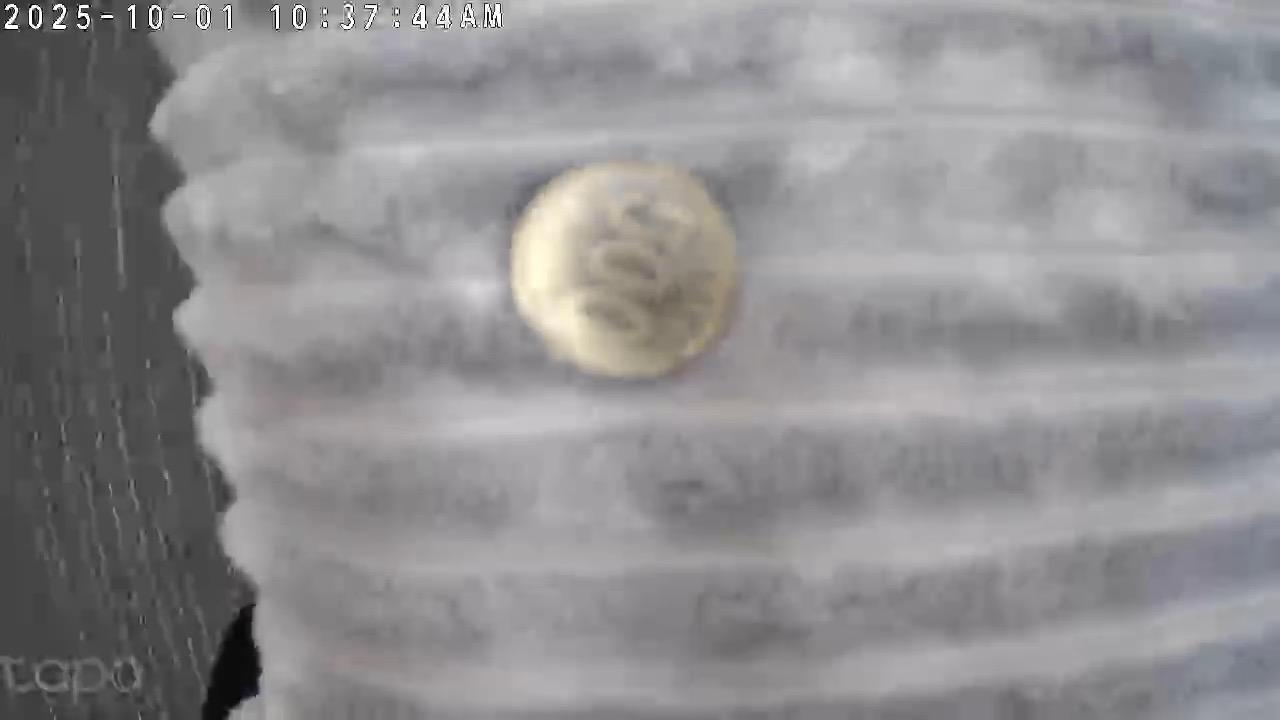coin: (504, 155, 744, 383)
